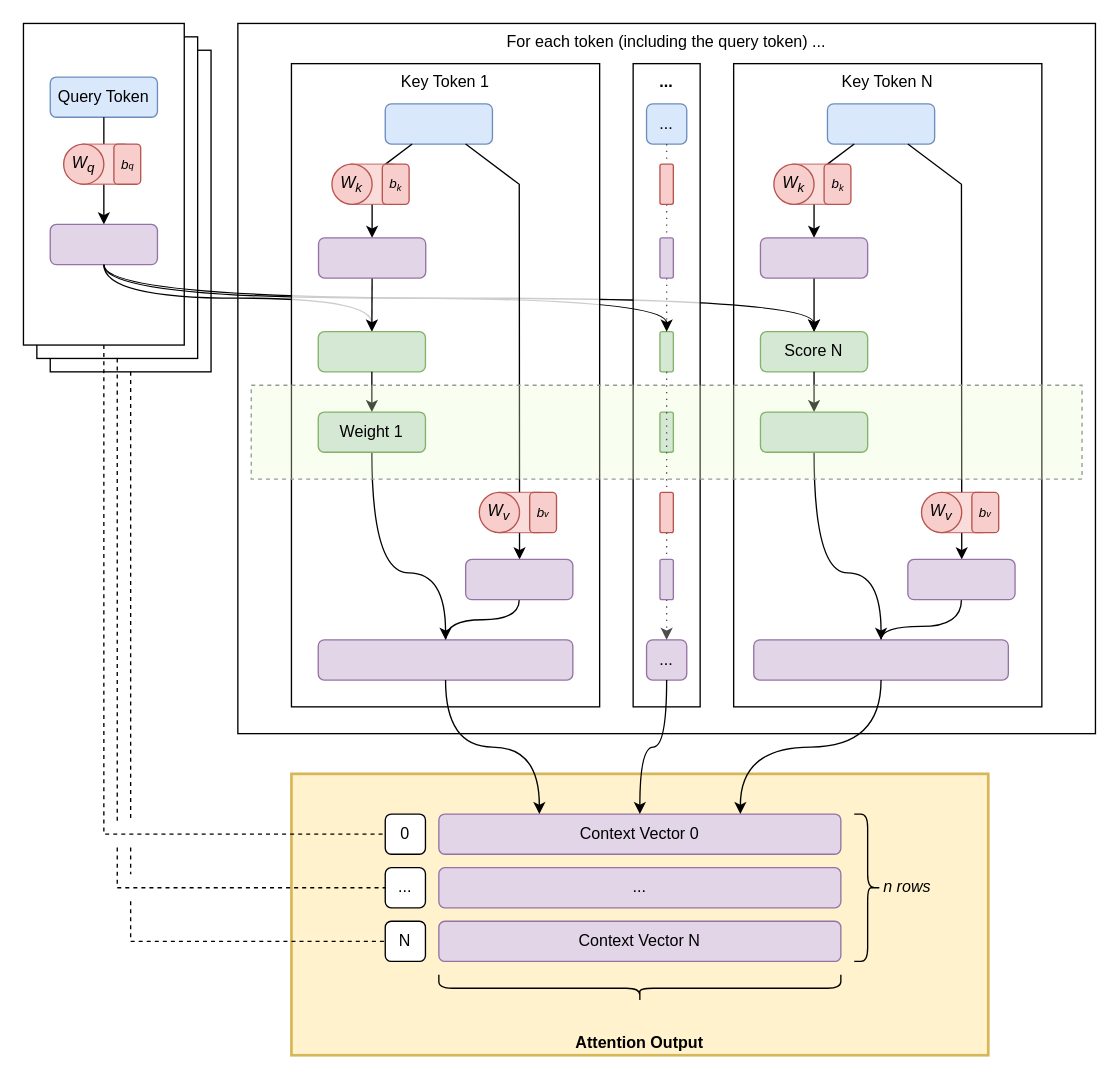
The diagram is 1119 pixels wide and 1080 high, and some of its shapes have lost their labels. The shapes that lost their labels are listed below. From the top down, each one's box as (x1, y1, x2, y2) in pixels, then its label:
(384, 103, 492, 144): Token 1
(826, 103, 935, 144): Token N
(22, 22, 184, 345): Query Token 0
(49, 223, 157, 265): Query
(317, 237, 426, 278): Key 1
(759, 237, 868, 278): Key N
(317, 330, 425, 372): Score 1
(759, 411, 868, 452): Weight N
(464, 558, 573, 600): Value 1
(907, 558, 1015, 600): Value N
(317, 639, 573, 680): Weighted Value 1
(752, 639, 1008, 680): Weighted Value N
(438, 974, 841, 1002): δ dimensions
